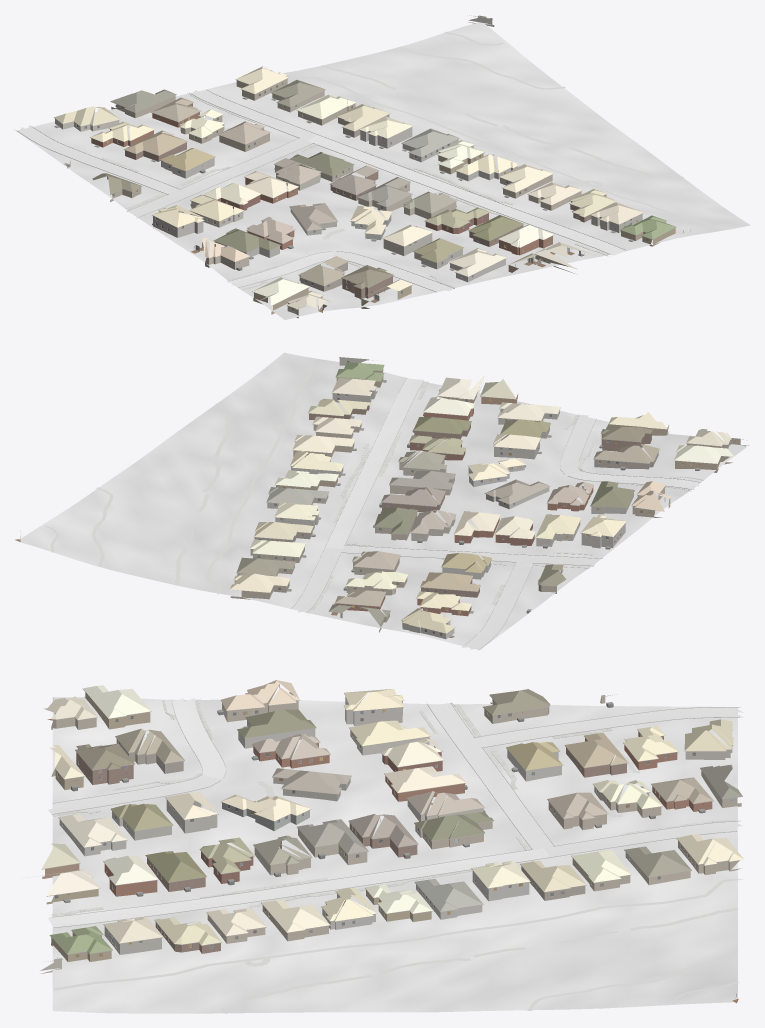
3 renders of one model, top to bottom at view 1: azimuth 30°, elevation 25°; view 2: azimuth 150°, elevation 25°; view 3: azimuth 270°, elevation 25°, orthographic. The views are drawn at different scales.
Visible parts, largest first — view 1: ground, roof, concrete, wall, wall_stucco, walk, detail, wall_stone, curb, glass; view 2: ground, roof, concrete, wall, walk, wall_stucco, detail, wall_stone, curb; view 3: ground, roof, concrete, wall, walk, wall_stucco, detail, wall_stone, curb, glass.
Boxes of the visible parts, x1,y1,x2,y2 form: ground: (16,22,750,319); roof: (54,15,676,309); concrete: (19,90,625,292); wall: (69,78,675,318); wall_stucco: (55,15,642,269); walk: (101,31,719,289); detail: (54,16,692,315); wall_stone: (153,127,517,282); curb: (14,89,626,292); glass: (77,82,648,310); ground: (17,352,746,649); roof: (20,362,733,633); concrete: (292,378,698,649); wall: (230,369,749,632); walk: (44,358,703,612); wall_stucco: (237,357,670,639); detail: (20,357,743,637); wall_stone: (267,409,633,579); curb: (291,378,703,650); ground: (52,697,737,1013); roof: (28,680,743,954); concrete: (48,698,743,927); wall: (42,692,741,961); walk: (51,699,743,1013); wall_stucco: (40,700,732,973); detail: (41,689,742,997); wall_stone: (59,697,561,929); curb: (50,699,741,927); glass: (55,699,696,948).
Size of the model in its own units: 259 by 19 by 269.
